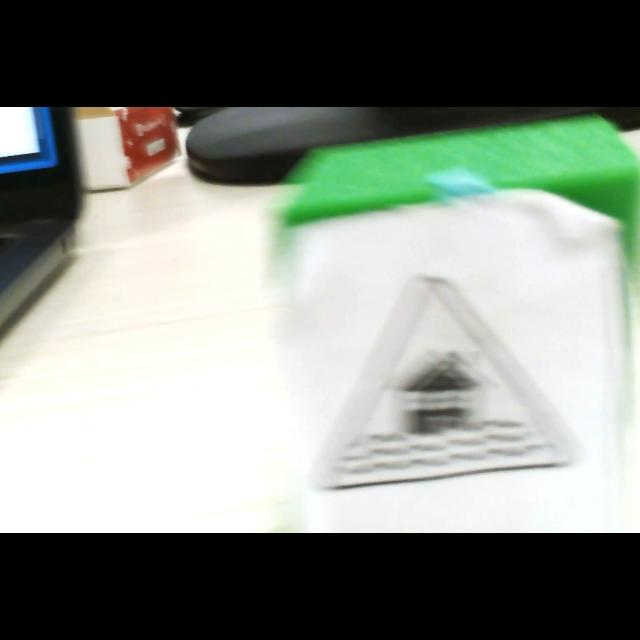Tsunami: (313, 276, 570, 490)
